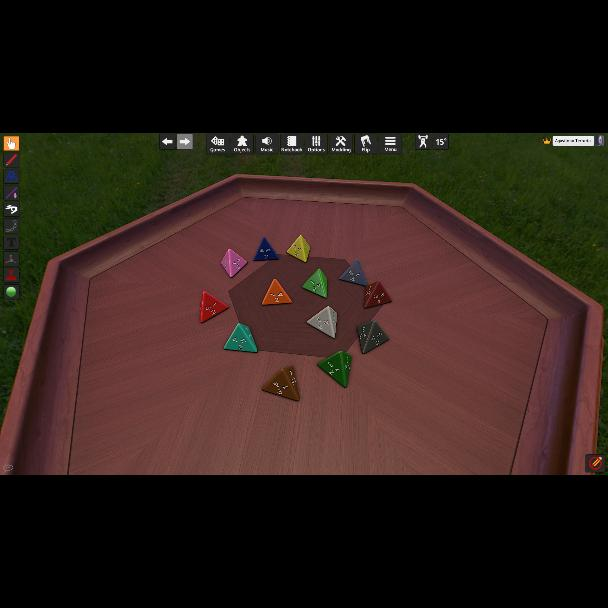d4: (262, 366, 300, 401), (317, 351, 351, 388), (357, 319, 389, 354), (306, 307, 337, 339), (200, 290, 227, 324), (224, 324, 256, 352), (262, 279, 292, 307), (303, 268, 329, 298), (221, 249, 247, 279), (365, 280, 392, 308), (340, 258, 366, 286), (286, 235, 310, 263), (253, 238, 279, 262)
